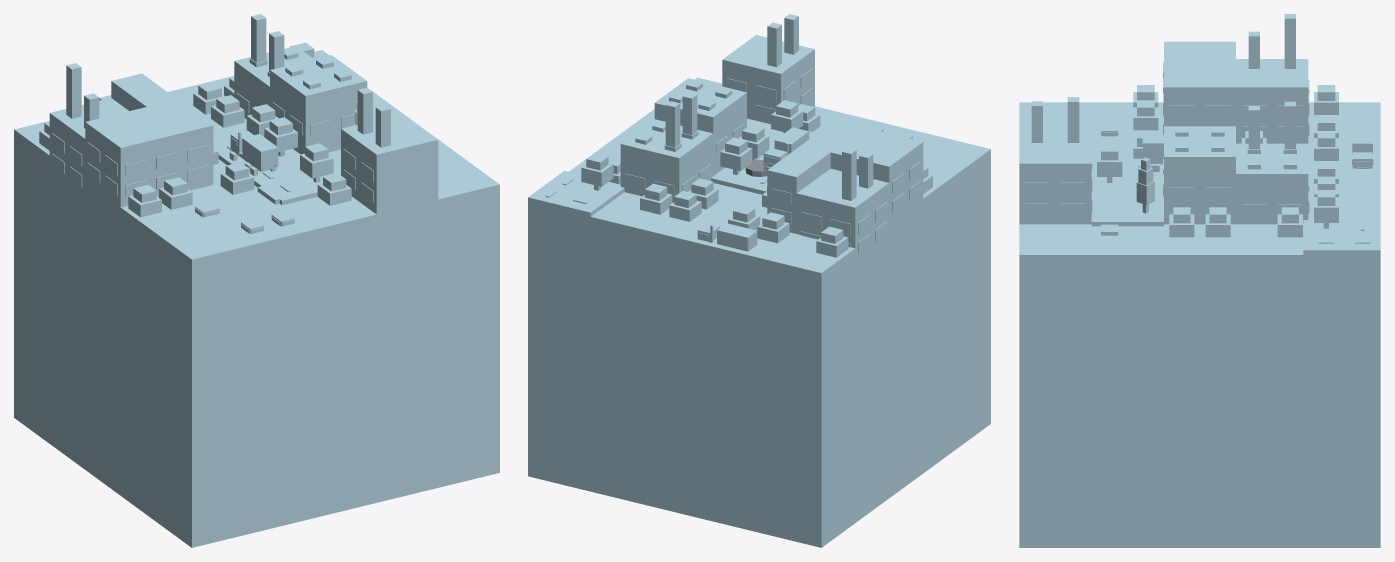
File: block_10_undergroundtanks_100.glb
The picture shows the model from 3 angles, left to right: view 1: azimuth 30°, elevation 25°; view 2: azimuth 150°, elevation 25°; view 3: azimuth 270°, elevation 25°; orthographic projection. The views are drawn at different scales.
Parts seen in each view (by area): view 1: Patch_LowerLeft_b10_UT, Factories_LowerLeft_b10_UT, Roads_LowerLeft_b10_UT, Asset_Truck.003_UT, Ground_LowerLeft_b10_UT, Asset_Tree_Round.057_UT, Asset_Tree_Round.044_UT, Asset_Tree_Round.049_UT, Asset_Tree_Round.061_UT, Asset_Tree_Round.047_UT, Asset_Tree_Round.036_UT, Asset_Tree_Round.048_UT (+3 smaller); view 2: Patch_LowerLeft_b10_UT, Factories_LowerLeft_b10_UT, Roads_LowerLeft_b10_UT, Ground_LowerLeft_b10_UT, Asset_Truck.002_UT, Asset_Truck.003_UT, Asset_Tree_Round.029_UT, Asset_Tree_Round.042_UT, Asset_Tree_Round.057_UT, Asset_Tree_Round.027_UT, Asset_Tree_Round.024_UT, Asset_Tree_Round.025_UT (+4 smaller); view 3: Patch_LowerLeft_b10_UT, Factories_LowerLeft_b10_UT, Roads_LowerLeft_b10_UT, Ground_LowerLeft_b10_UT, Asset_Truck.002_UT, Asset_Tree_Round.057_UT, Asset_Tree_Round.029_UT, Asset_Tree_Tall.001_UT, Asset_Tree_Round.037_UT, Asset_Tree_Round.043_UT, Asset_Tree_Round.045_UT, Asset_Tree_Round.048_UT (+3 smaller).
Boxes of the visible parts, bbox=[...] form: Patch_LowerLeft_b10_UT: bbox=[14, 76, 499, 547]; Factories_LowerLeft_b10_UT: bbox=[49, 14, 438, 234]; Roads_LowerLeft_b10_UT: bbox=[14, 50, 499, 249]; Asset_Truck.003_UT: bbox=[229, 130, 278, 176]; Ground_LowerLeft_b10_UT: bbox=[36, 148, 468, 250]; Asset_Tree_Round.057_UT: bbox=[300, 143, 333, 182]; Asset_Tree_Round.044_UT: bbox=[264, 117, 297, 156]; Asset_Tree_Round.049_UT: bbox=[220, 162, 254, 194]; Asset_Tree_Round.061_UT: bbox=[317, 173, 351, 205]; Asset_Tree_Round.047_UT: bbox=[128, 185, 161, 217]; Asset_Tree_Round.036_UT: bbox=[211, 95, 244, 127]; Asset_Tree_Round.048_UT: bbox=[159, 177, 192, 209]; Patch_LowerLeft_b10_UT: bbox=[528, 77, 990, 547]; Factories_LowerLeft_b10_UT: bbox=[620, 14, 923, 283]; Roads_LowerLeft_b10_UT: bbox=[528, 132, 956, 289]; Ground_LowerLeft_b10_UT: bbox=[575, 118, 930, 273]; Asset_Truck.002_UT: bbox=[697, 223, 757, 251]; Asset_Truck.003_UT: bbox=[763, 127, 809, 170]; Asset_Tree_Round.029_UT: bbox=[581, 153, 613, 190]; Asset_Tree_Round.042_UT: bbox=[720, 137, 752, 174]; Asset_Tree_Round.057_UT: bbox=[771, 100, 803, 133]; Asset_Tree_Round.027_UT: bbox=[669, 190, 701, 221]; Asset_Tree_Round.024_UT: bbox=[816, 226, 848, 257]; Asset_Tree_Round.025_UT: bbox=[757, 212, 789, 243]; Patch_LowerLeft_b10_UT: bbox=[1019, 102, 1380, 547]; Factories_LowerLeft_b10_UT: bbox=[1019, 14, 1309, 224]; Roads_LowerLeft_b10_UT: bbox=[1019, 156, 1380, 306]; Ground_LowerLeft_b10_UT: bbox=[1091, 174, 1344, 235]; Asset_Truck.002_UT: bbox=[1352, 127, 1373, 168]; Asset_Tree_Round.057_UT: bbox=[1097, 144, 1122, 182]; Asset_Tree_Round.029_UT: bbox=[1314, 190, 1338, 228]; Asset_Tree_Tall.001_UT: bbox=[1136, 157, 1154, 213]; Asset_Tree_Round.037_UT: bbox=[1277, 207, 1302, 237]; Asset_Tree_Round.043_UT: bbox=[1205, 207, 1230, 237]; Asset_Tree_Round.045_UT: bbox=[1169, 207, 1194, 237]; Asset_Tree_Round.048_UT: bbox=[1133, 100, 1158, 130].
Bounding box in the file's own units: 9.52 × 11.46 × 9.5.
